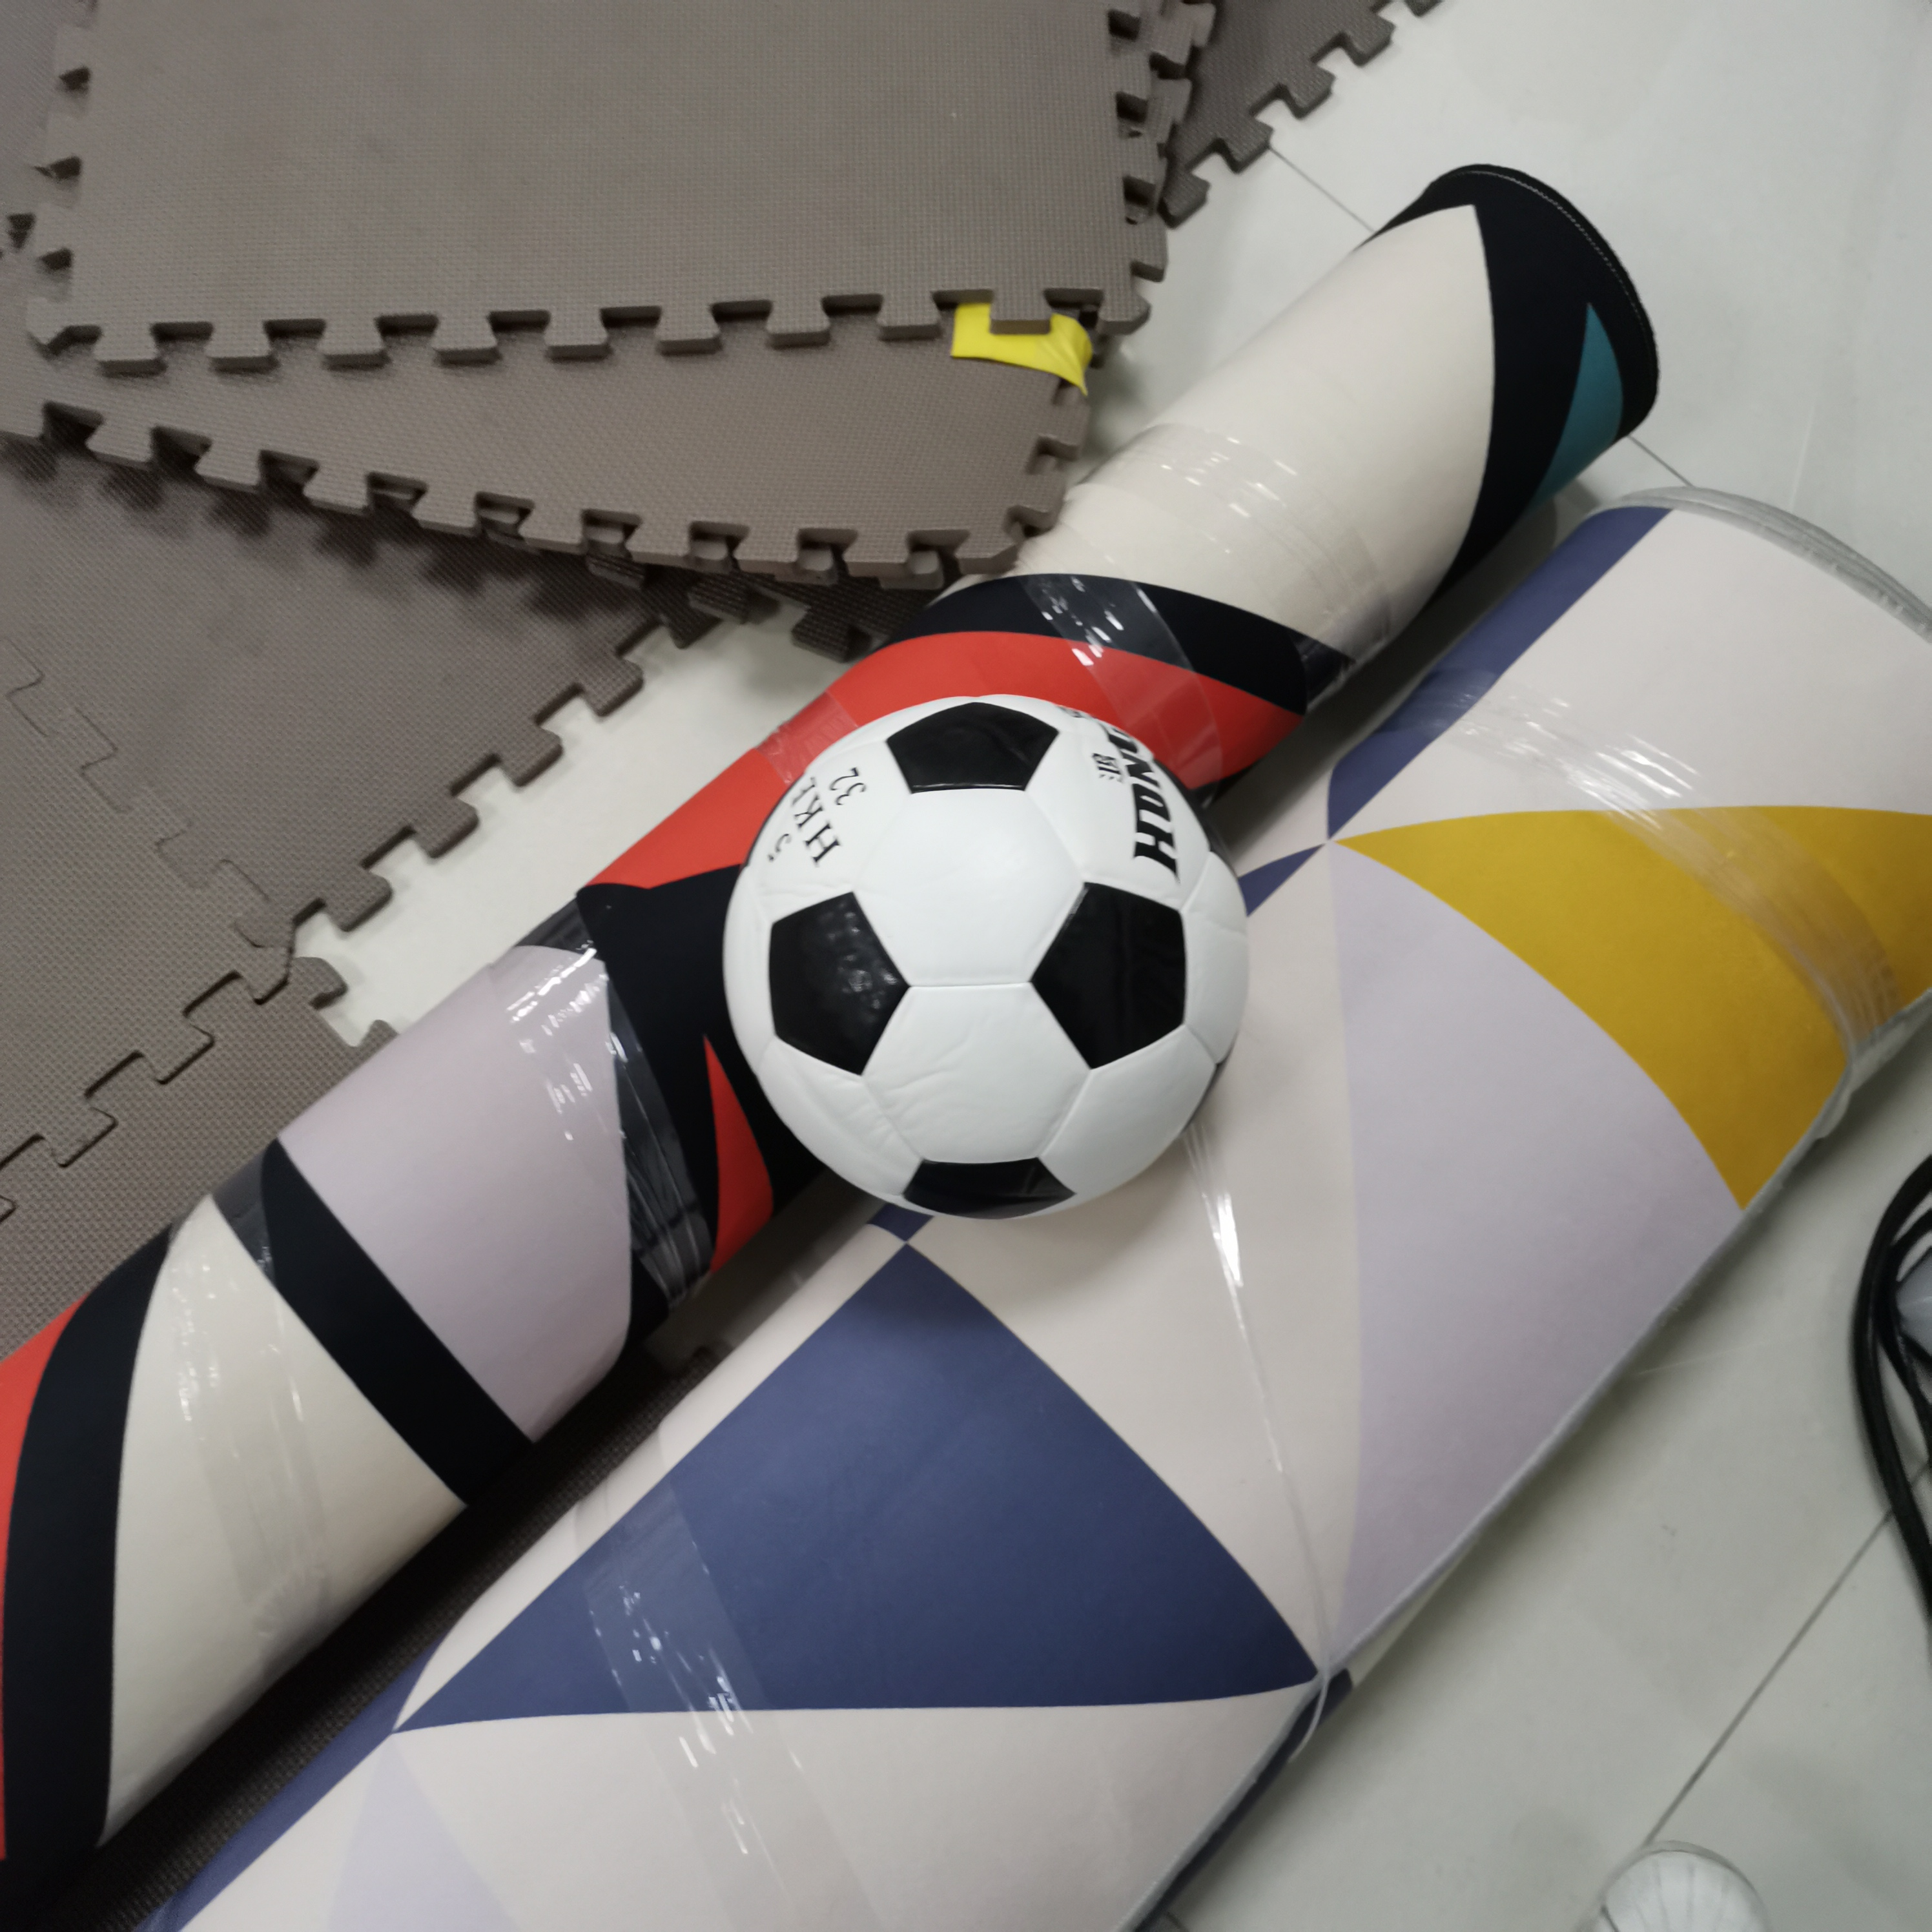football: (724, 699, 1246, 1230)
